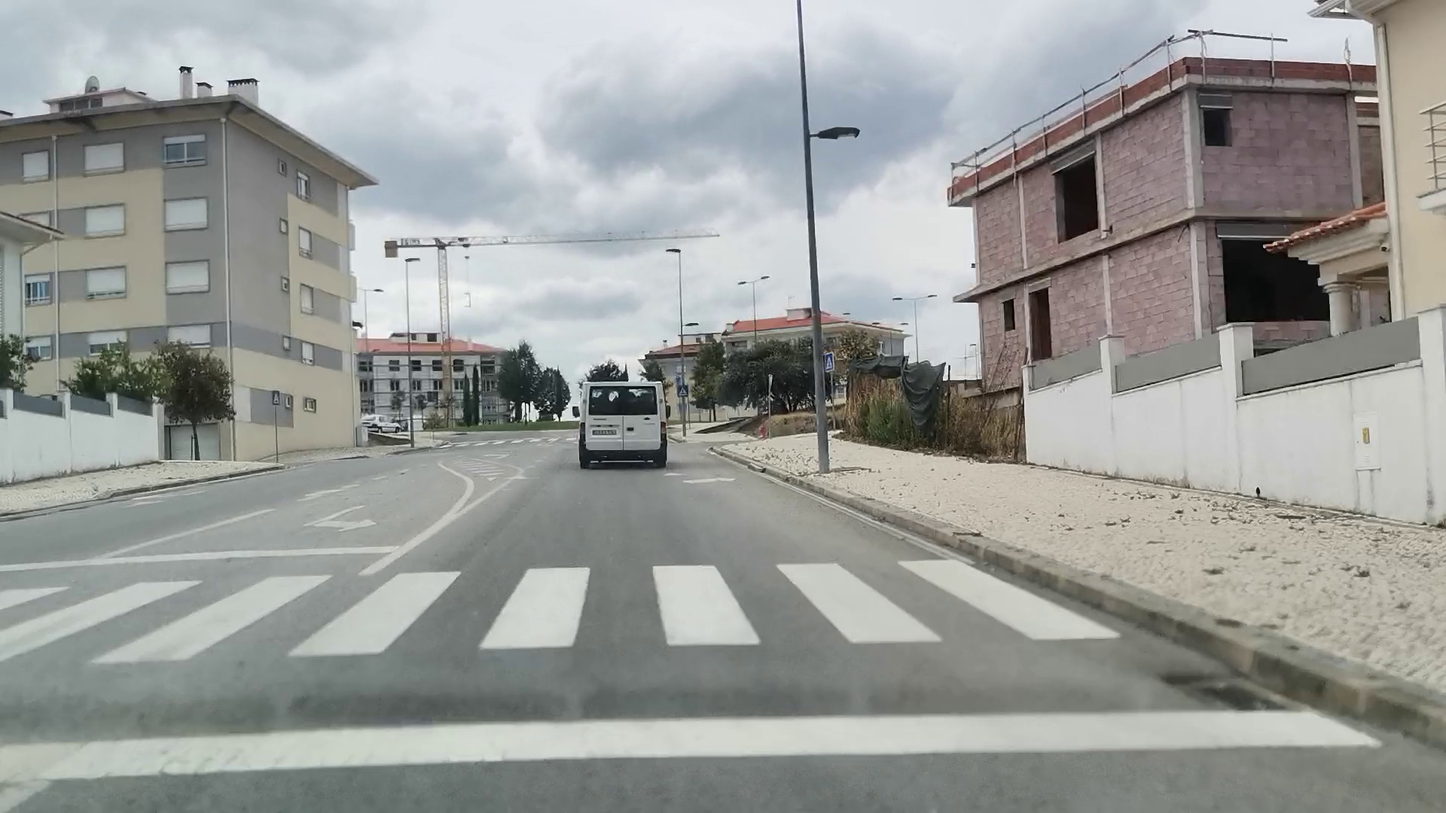Stairs: (0, 553, 1133, 664)
